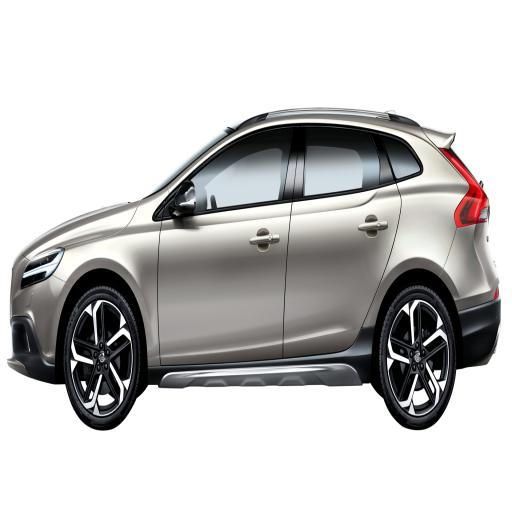Sedan-sDLz: (8, 109, 500, 428)
